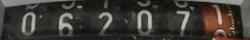digits: (56, 11, 78, 38), (173, 10, 193, 38), (95, 10, 114, 38), (209, 2, 225, 28), (136, 9, 152, 34), (20, 11, 36, 35)
